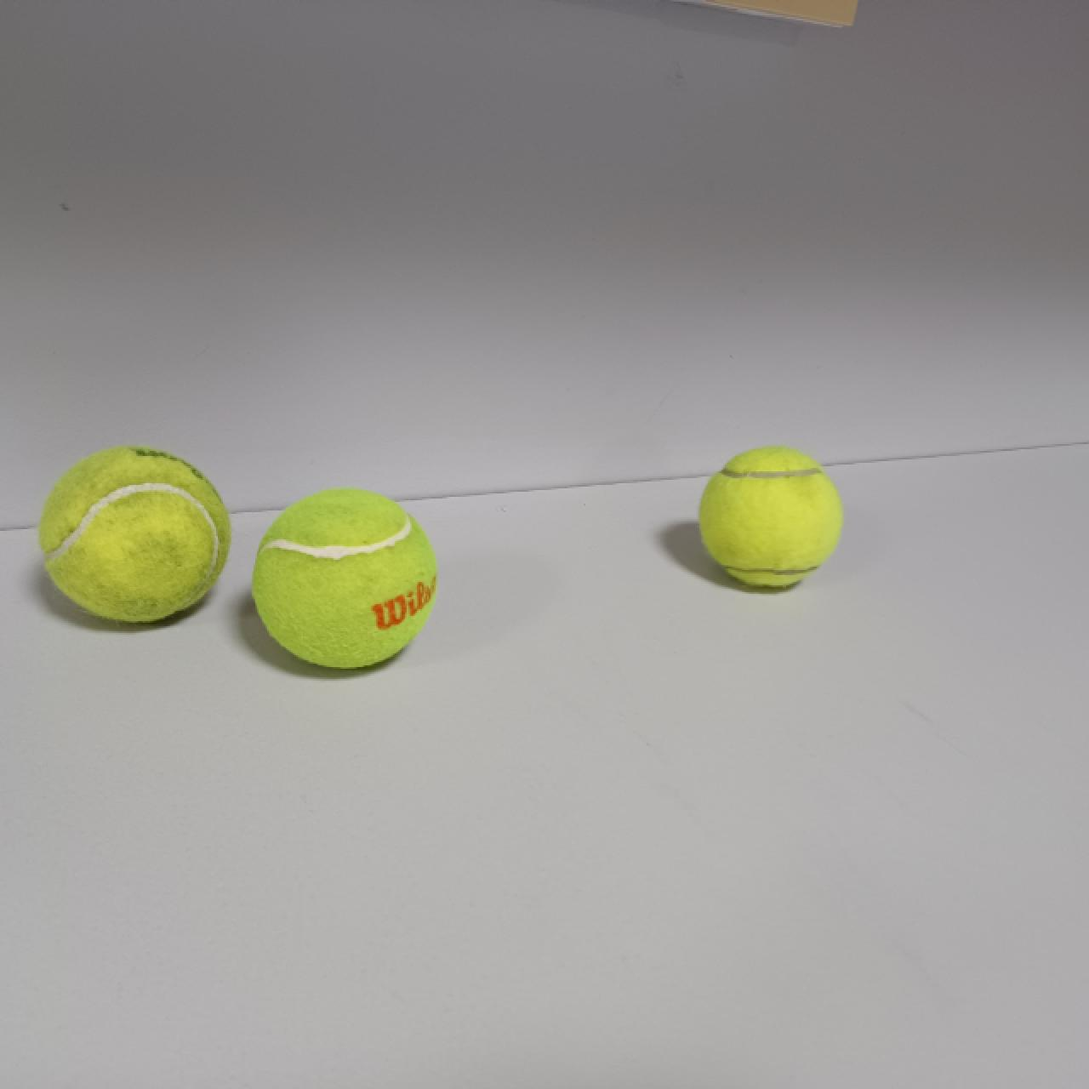tennis-ball: (40, 445, 235, 625), (251, 490, 439, 671), (698, 445, 845, 591)
